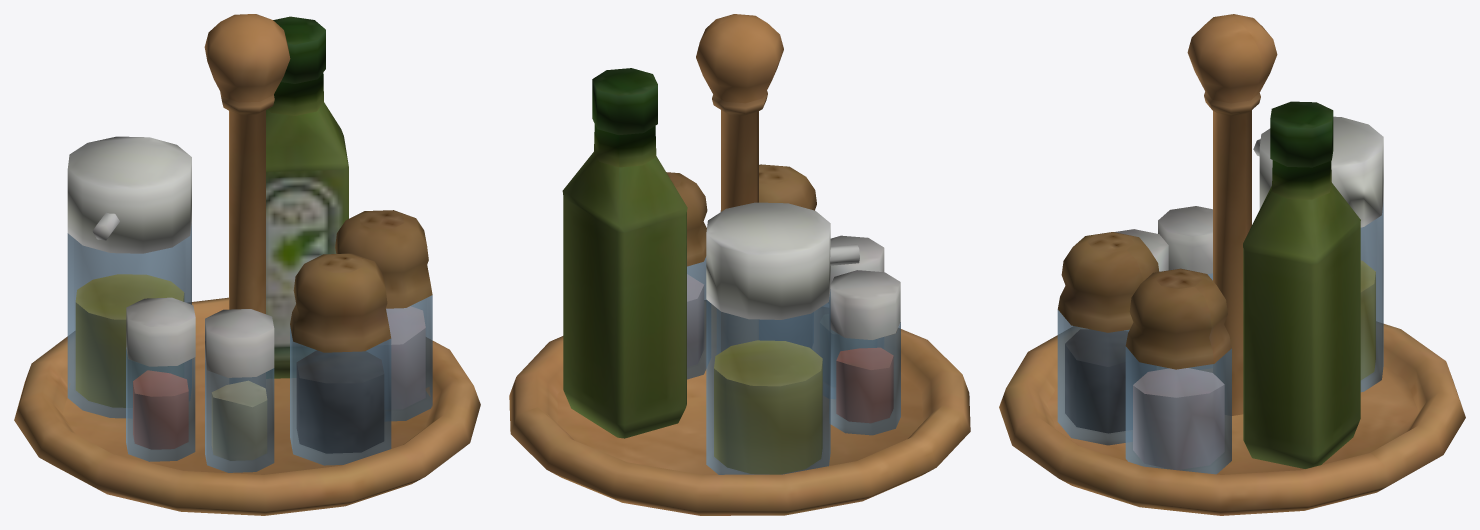
3 views of the same model, side by side, from view 1: azimuth 30°, elevation 25°; view 2: azimuth 150°, elevation 25°; view 3: azimuth 270°, elevation 25° (orthographic).
Size of the model in its own units: 5.89 by 5.67 by 5.89.
3 materials, 2 textured.
